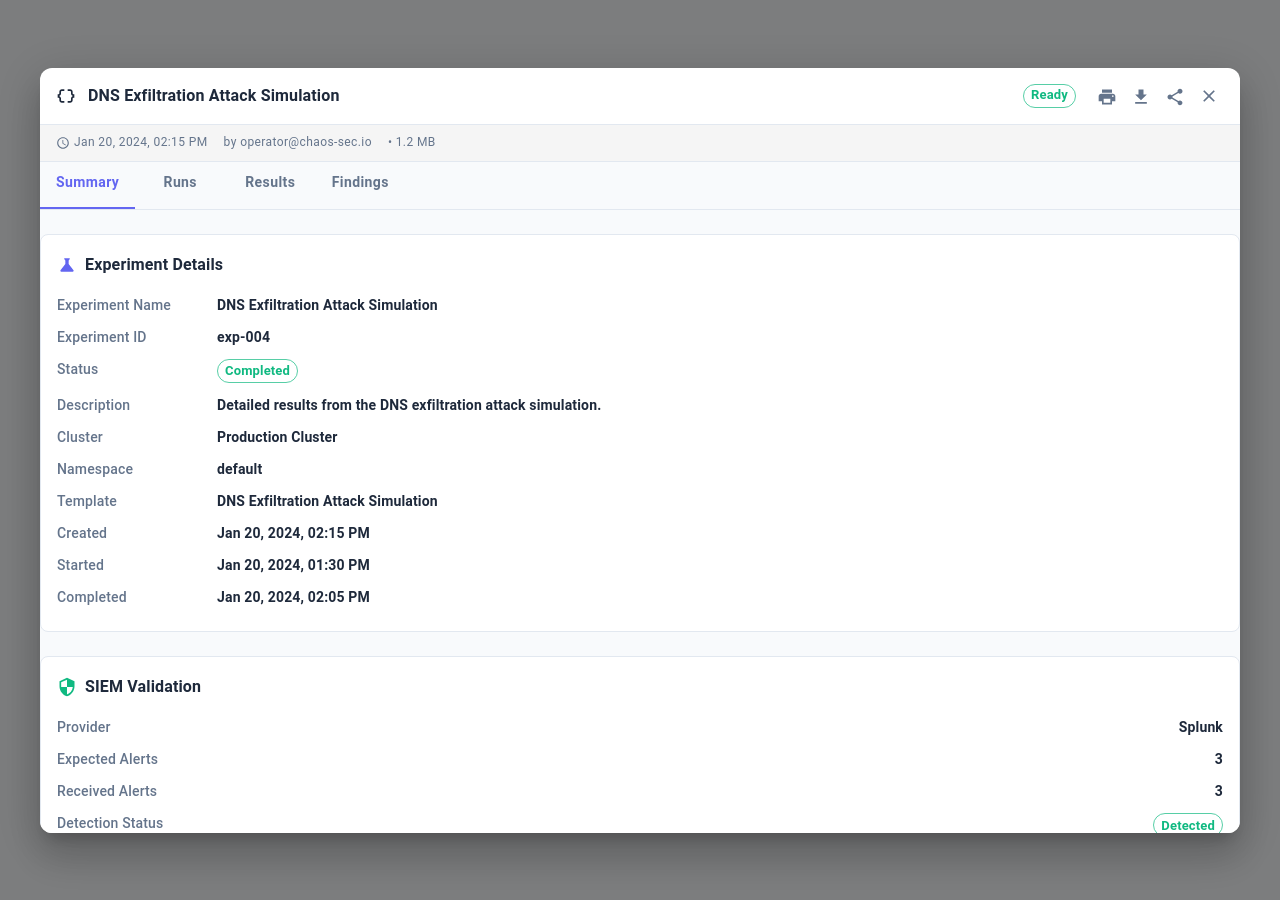
Test: ReportViewer › tab switching › shows runs table content when Runs tab is selected
The image size is (1280, 900).
Check: the tab "Summary" is shown, box 40,162 -> 135,204
What coordinates should you click on to do the following:
click the tab "Runs"
I would click on:
 (180, 183)
Its box is 135,162 -> 225,204.
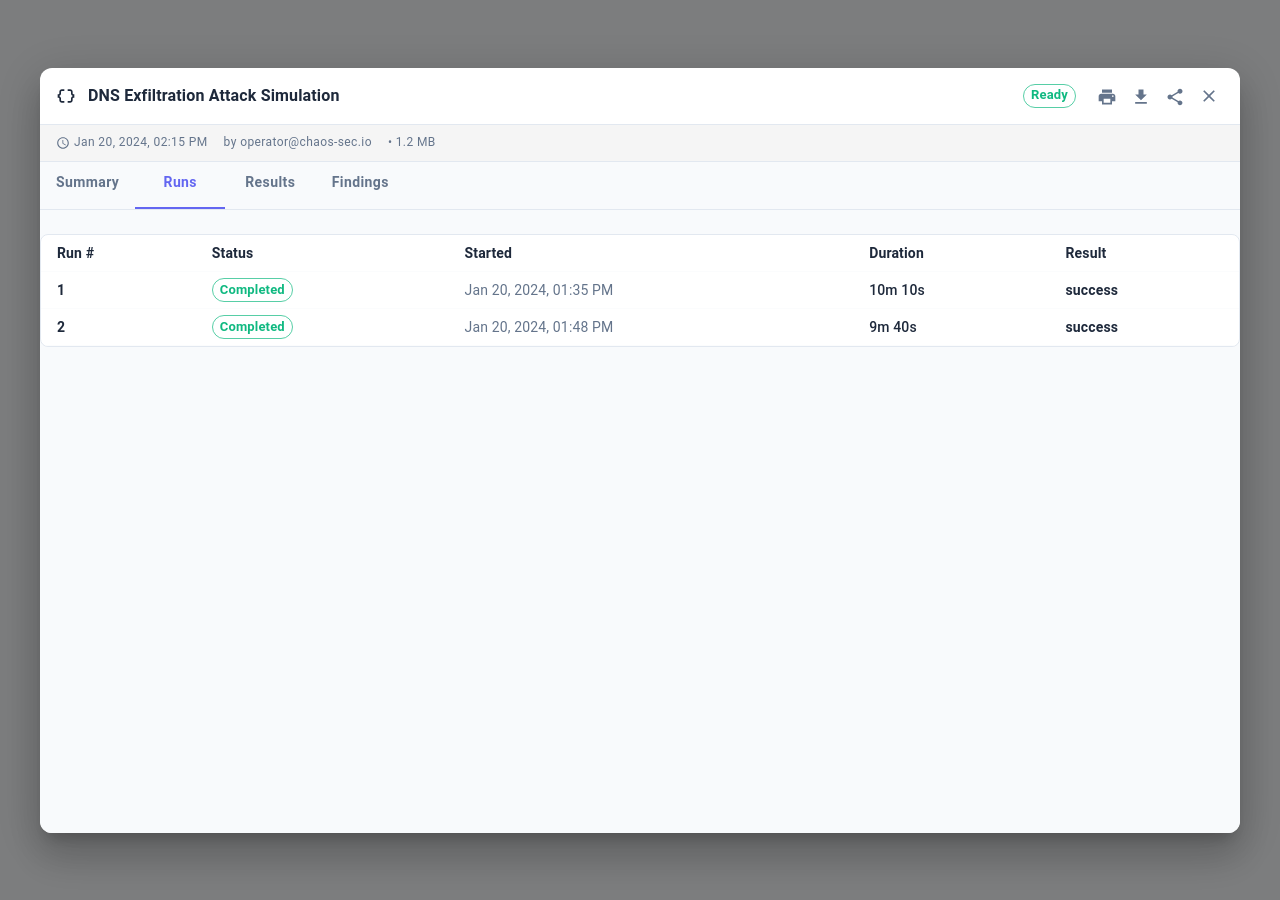
Check: the column heading "Result" is shown, box 1050,235 -> 1239,272
Check: the column heading "Run #" is shown, box 41,235 -> 196,272
Check: the column heading "Duration" is shown, box 853,235 -> 1050,272
